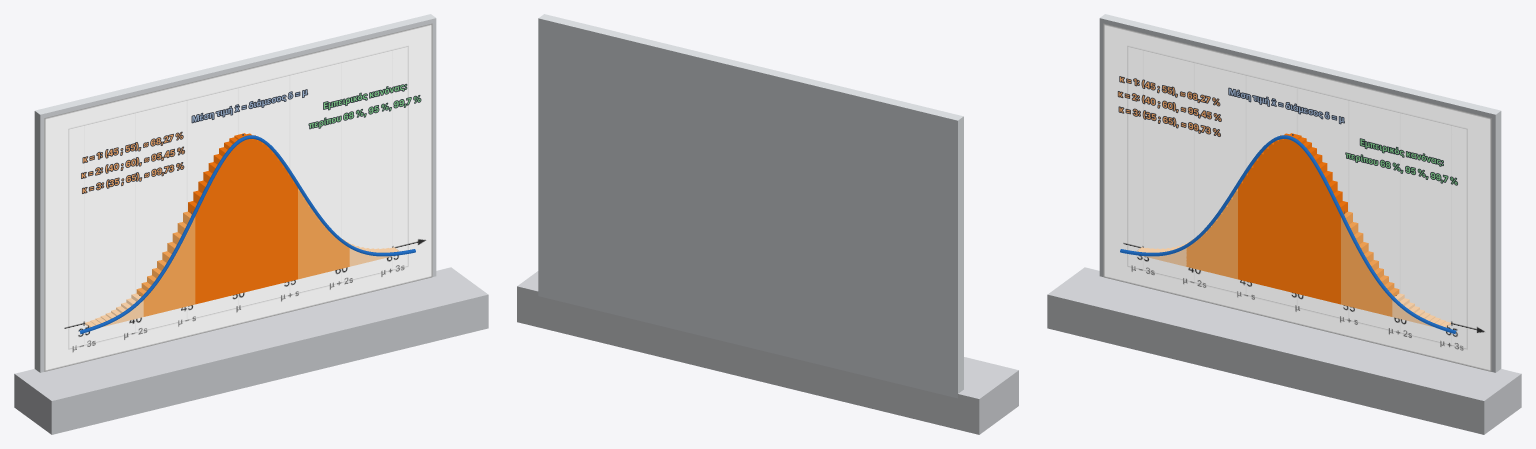
File: statistiki-g-lykeiou.glb
The picture shows the model from 3 angles, left to right: view 1: azimuth 30°, elevation 25°; view 2: azimuth 150°, elevation 25°; view 3: azimuth 330°, elevation 25°; orthographic projection. The views are drawn at different scales.
Parts seen in each view (by area): view 1: pinakas, vasi, piso, kampyli, lorida_28, lorida_29, lorida_30, lorida_27, lorida_26, lorida_25, lorida_24, lorida_32 (+22 smaller); view 2: piso, vasi; view 3: pinakas, vasi, piso, kampyli, lorida_31, lorida_30, lorida_29, lorida_32, lorida_34, lorida_26, lorida_27, lorida_35 (+22 smaller).
Part boxes in pixels (bbox=[...]): pinakas: bbox=[44, 23, 432, 371]; vasi: bbox=[14, 267, 488, 434]; piso: bbox=[34, 14, 436, 372]; kampyli: bbox=[79, 135, 415, 334]; lorida_28: bbox=[229, 137, 241, 294]; lorida_29: bbox=[234, 134, 246, 292]; lorida_30: bbox=[240, 133, 251, 291]; lorida_27: bbox=[224, 141, 236, 295]; lorida_26: bbox=[219, 147, 231, 296]; lorida_25: bbox=[213, 154, 225, 297]; lorida_24: bbox=[208, 162, 220, 299]; lorida_32: bbox=[254, 135, 261, 289]; piso: bbox=[538, 14, 963, 398]; vasi: bbox=[517, 271, 1018, 434]; pinakas: bbox=[1103, 23, 1491, 371]; vasi: bbox=[1047, 267, 1521, 434]; piso: bbox=[1099, 14, 1501, 372]; kampyli: bbox=[1120, 135, 1456, 334]; lorida_31: bbox=[1294, 137, 1306, 294]; lorida_30: bbox=[1289, 134, 1301, 292]; lorida_29: bbox=[1284, 133, 1295, 291]; lorida_32: bbox=[1299, 141, 1311, 295]; lorida_34: bbox=[1310, 154, 1322, 297]; lorida_26: bbox=[1268, 142, 1273, 287]; lorida_27: bbox=[1274, 135, 1281, 289]; lorida_35: bbox=[1315, 162, 1327, 299].
Size of the model in its own units: 0.2812 by 0.1797 by 0.0418.
49 materials, 7 textured.
